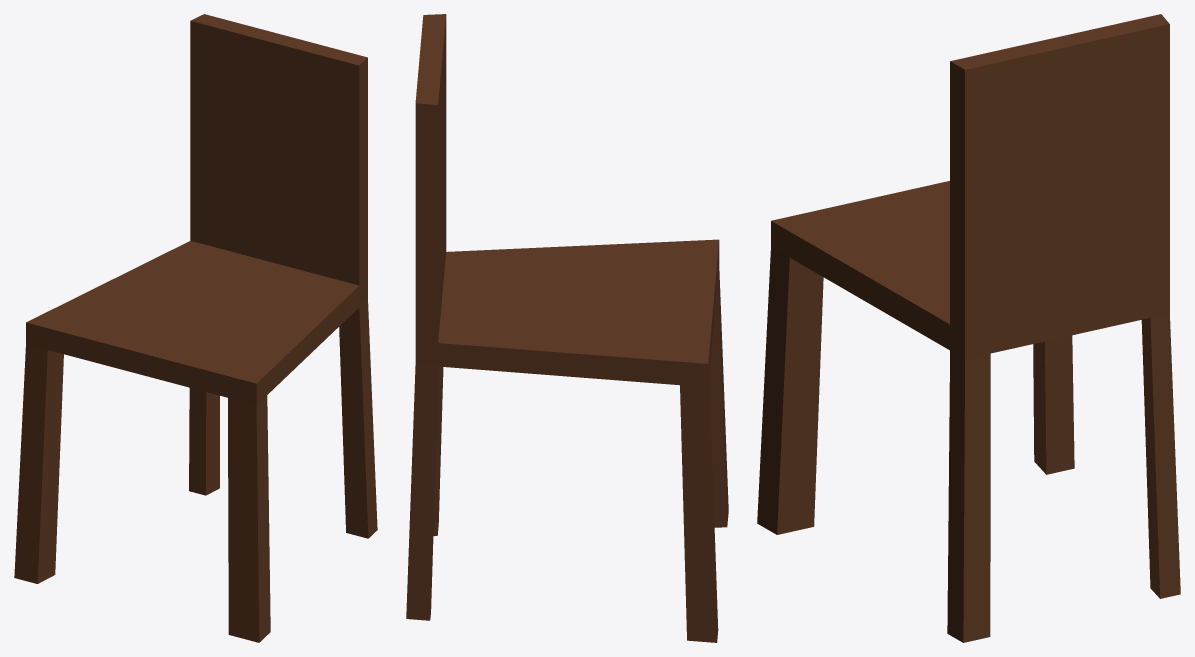
Rendered from chair.glb.
3 renders of one model, left to right at view 1: azimuth 30°, elevation 25°; view 2: azimuth 150°, elevation 25°; view 3: azimuth 270°, elevation 25°, orthographic. The views are drawn at different scales.
Parts seen in each view (by area): view 1: chair; view 2: chair; view 3: chair.
Boxes of the visible parts, x1,y1,x2,y2 form: chair: (14,14,377,642); chair: (406,14,728,642); chair: (757,14,1180,642).
Size of the model in its own units: 1.42 by 2.01 by 1.36.
